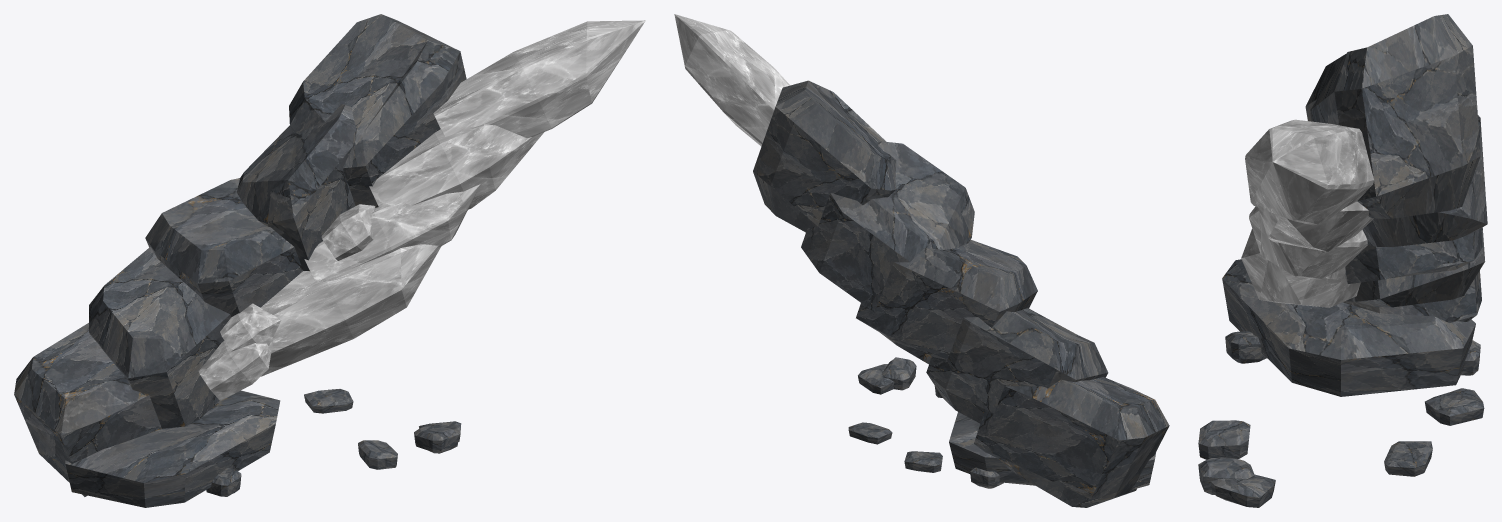
File: Ore_P6.fbx
The picture shows the model from 3 angles, left to right: view 1: azimuth 30°, elevation 25°; view 2: azimuth 150°, elevation 25°; view 3: azimuth 270°, elevation 25°; orthographic projection. The views are drawn at different scales.
Visible parts, largest first — view 1: Ore_P6_LOD0; view 2: Ore_P6_LOD0; view 3: Ore_P6_LOD0.
Boxes of the visible parts, x1=… form: Ore_P6_LOD0: x1=14, y1=14, x2=645, y2=507; Ore_P6_LOD0: x1=674, y1=14, x2=1169, y2=507; Ore_P6_LOD0: x1=1198, y1=14, x2=1487, y2=507.
Size of what is drawn, in the model's own units: 2.85 by 1.83 by 0.9479.
Materials: 2 (2 with a texture image).
